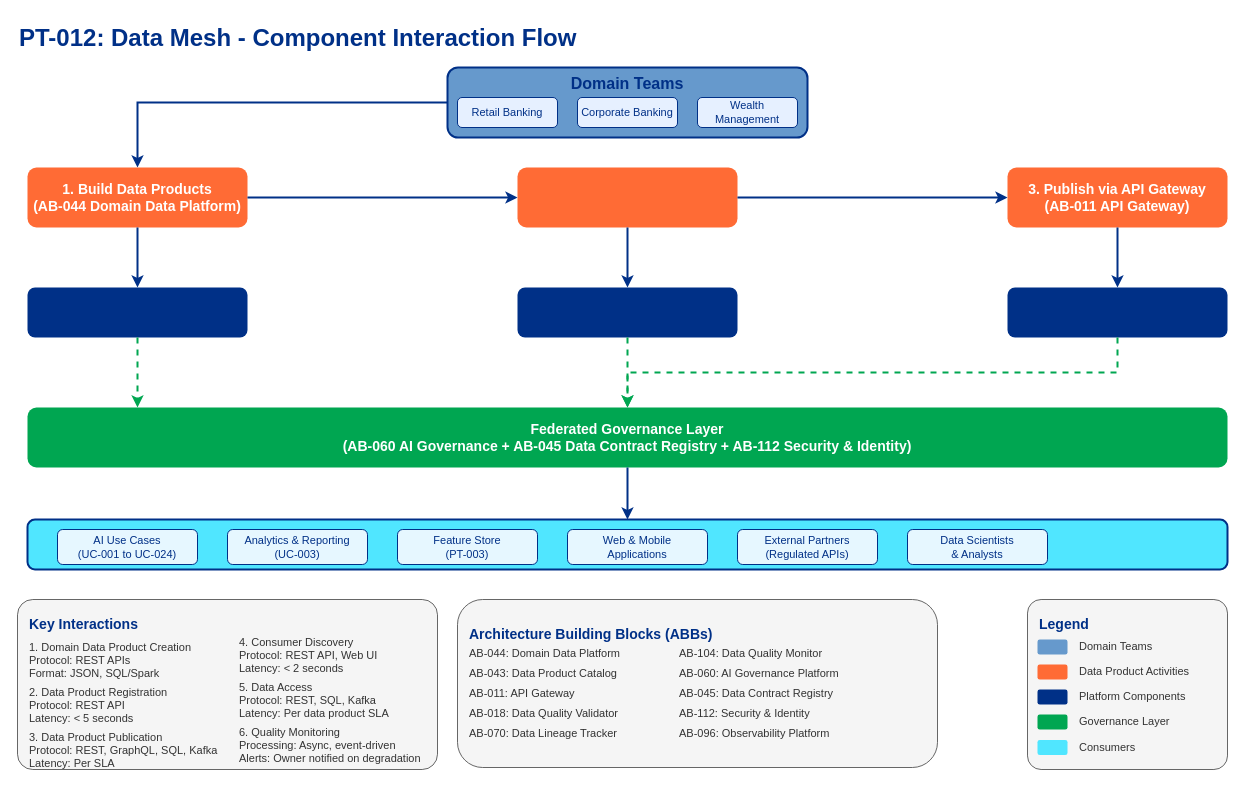
Image size: 1246x788. Some labels were removed from this diagram. Each missing label, with the centre of its shape:
2. Register in Catalog (AB-043 Data Product Catalog): the point at 627,197
Data Product Catalog (DataHub, Amundsen): the point at 627,312
Quality & Lineage Tracking (AB-018, AB-070, AB-104): the point at 1117,312
Self-Serve Platform (dbt, Airflow, Spark): the point at 137,312
